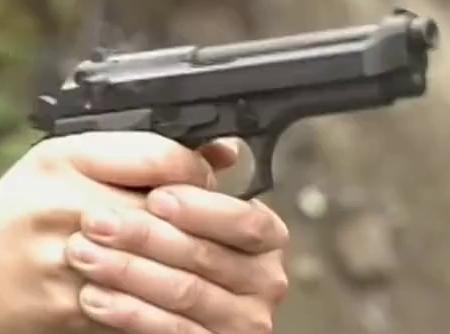gun: (1, 1, 450, 334)
